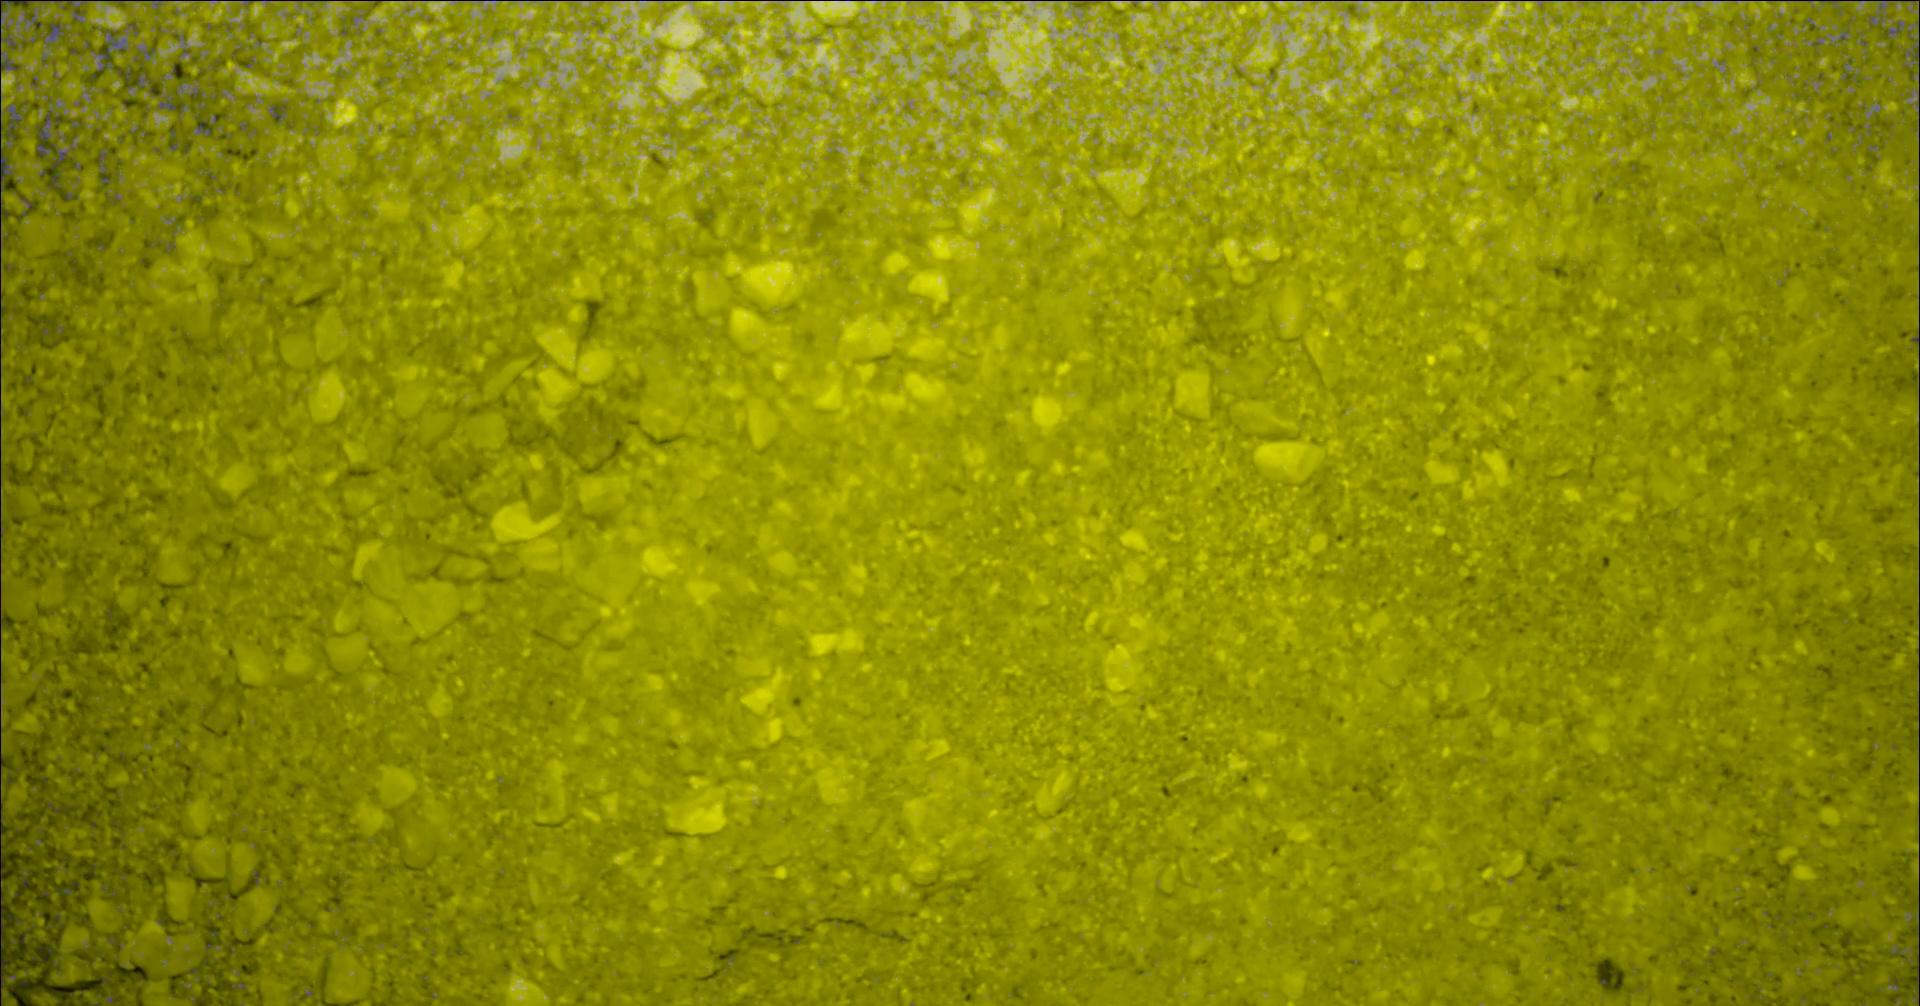ant: (97, 29, 124, 70), (0, 9, 15, 48), (6, 105, 22, 142), (0, 146, 11, 191), (36, 111, 50, 138), (44, 22, 61, 43), (50, 149, 66, 166), (0, 51, 15, 69), (37, 144, 51, 158), (1917, 884, 1919, 955)
